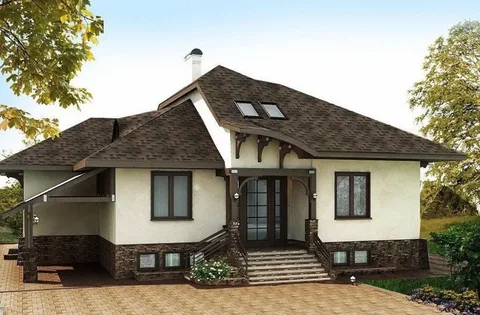private_hause: (32, 70, 439, 276)
